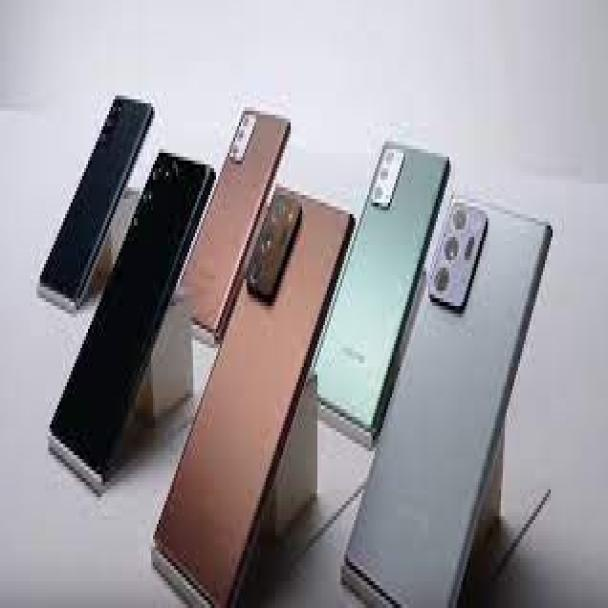Handphone: (147, 185, 353, 608), (348, 193, 550, 608), (47, 149, 213, 488), (309, 137, 452, 428), (32, 91, 155, 312), (175, 103, 293, 332)
